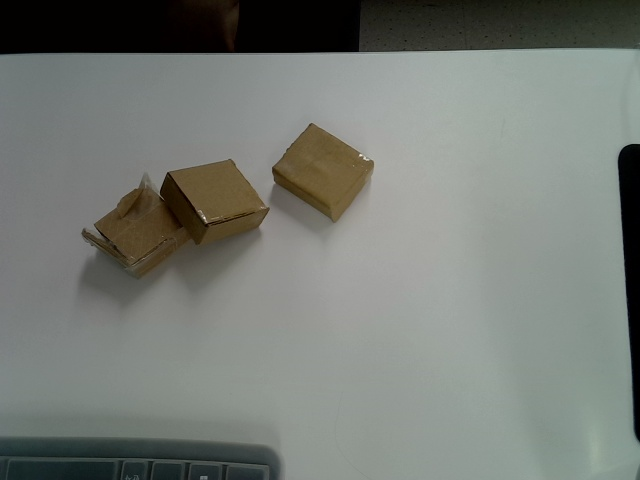defect: (81, 173, 193, 279)
normal: (273, 122, 374, 224), (160, 158, 270, 245)
